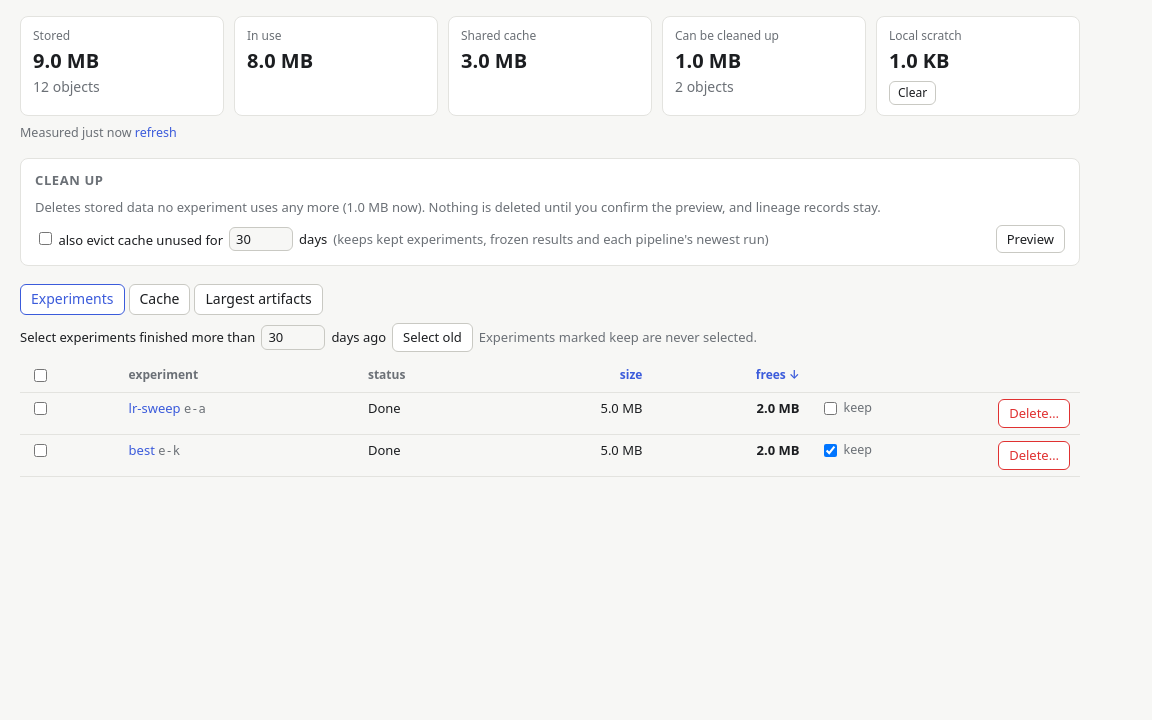
StoragePage › selects old experiments for bulk deletion
Click the button "Select old".
click(432, 337)  # box [392,323,473,352]
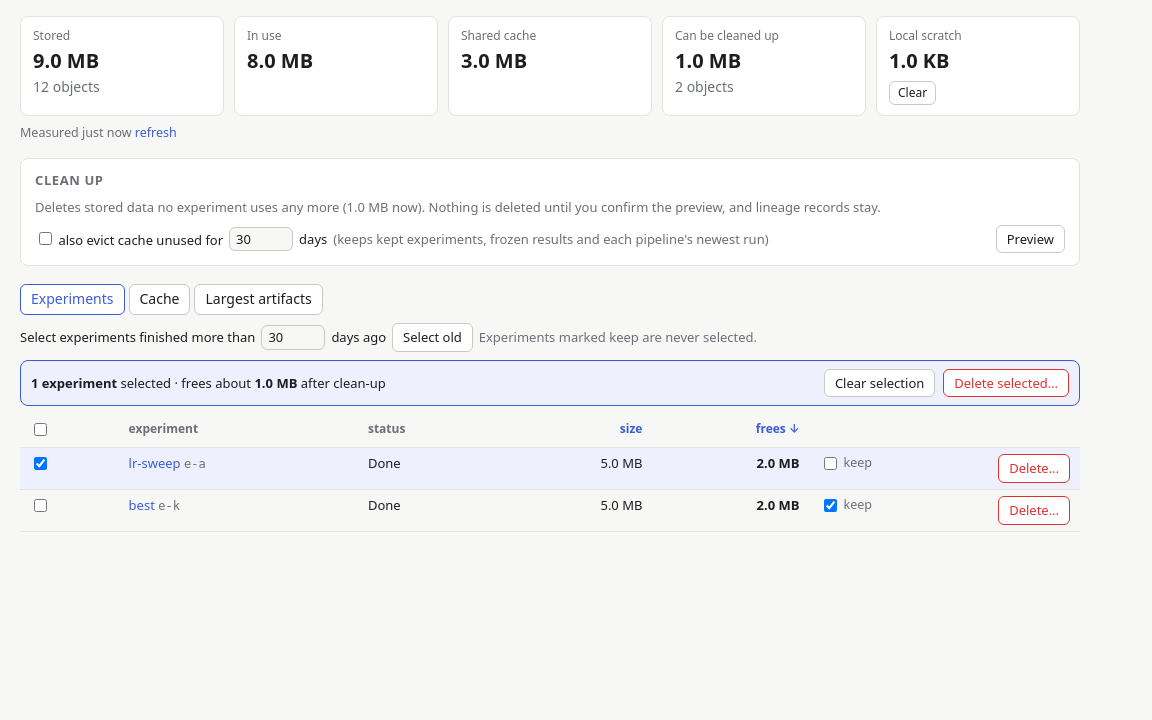
Expected: the checkbox named "select best" is not checked, [34,499,47,512]
Result: the checkbox named "select lr-sweep" is checked at [34,457,47,470]
Result: the button "Delete selected…" is shown at [943,369,1069,397]
